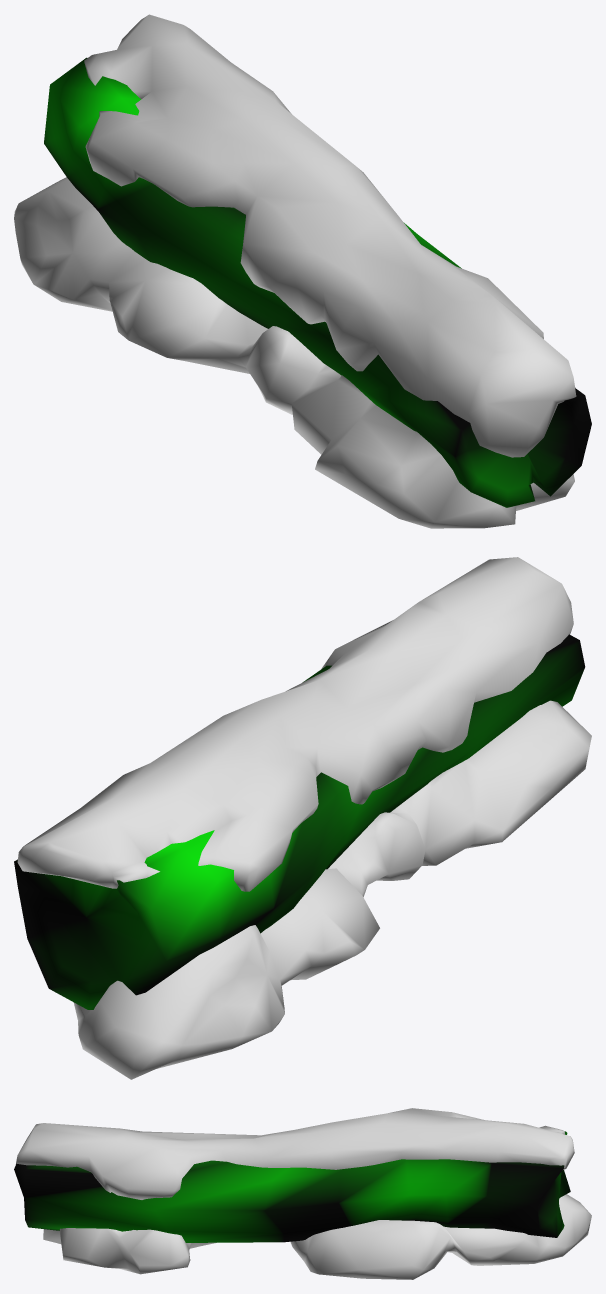
The model's file is SM_OakFallen2_SnowCover.fbx.
3 views of the same model, one above another, from view 1: azimuth 30°, elevation 25°; view 2: azimuth 150°, elevation 25°; view 3: azimuth 270°, elevation 25° (orthographic). The views are drawn at different scales.
Parts seen in each view (by area): view 1: SM_OakFallen2_SnowCover; view 2: SM_OakFallen2_SnowCover; view 3: SM_OakFallen2_SnowCover.
Part boxes in pixels (x1,y1,x2,y2): SM_OakFallen2_SnowCover: (14, 14, 591, 528); SM_OakFallen2_SnowCover: (14, 557, 591, 1079); SM_OakFallen2_SnowCover: (14, 1108, 591, 1279).
Size of the model in its own units: 231 by 212 by 737.
